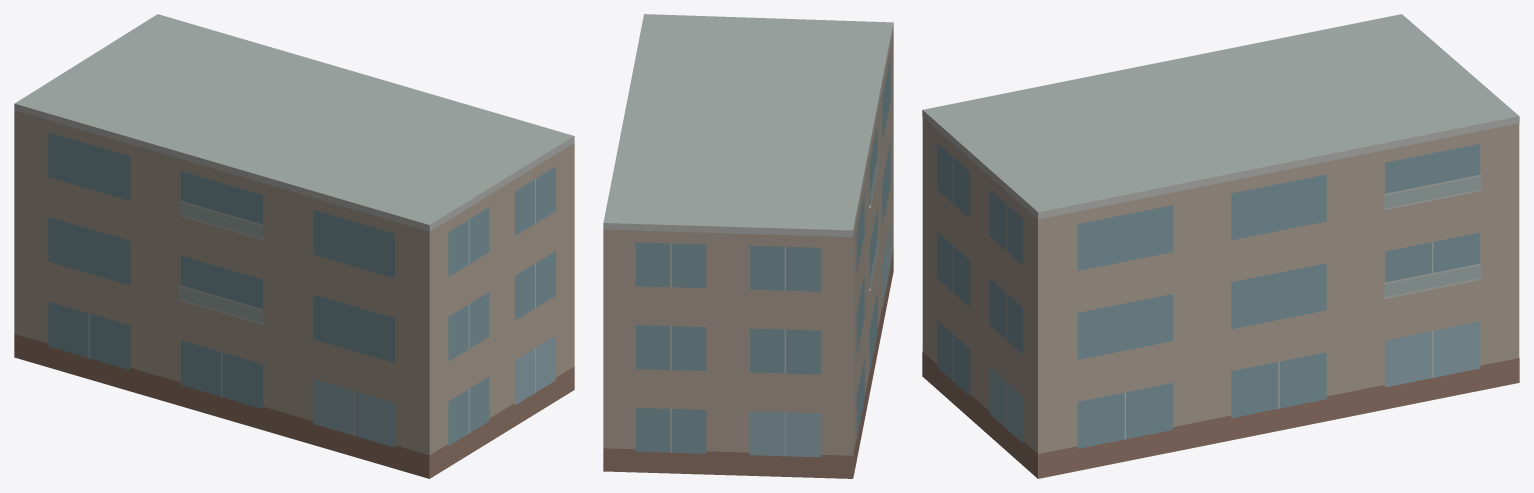
The model's file is survey-upis-32708308.glb.
3 views of the same model, side by side, from view 1: azimuth 30°, elevation 25°; view 2: azimuth 150°, elevation 25°; view 3: azimuth 270°, elevation 25° (orthographic). The views are drawn at different scales.
Parts seen in each view (by area): view 1: survey-upis-32708308.tmp; view 2: survey-upis-32708308.tmp; view 3: survey-upis-32708308.tmp.
Part boxes in pixels (<box>): survey-upis-32708308.tmp: <box>14,14,574,478</box>; survey-upis-32708308.tmp: <box>603,14,893,478</box>; survey-upis-32708308.tmp: <box>922,14,1519,478</box>.
Bounding box in the file's own units: 14.6 × 9.15 × 18.58.
